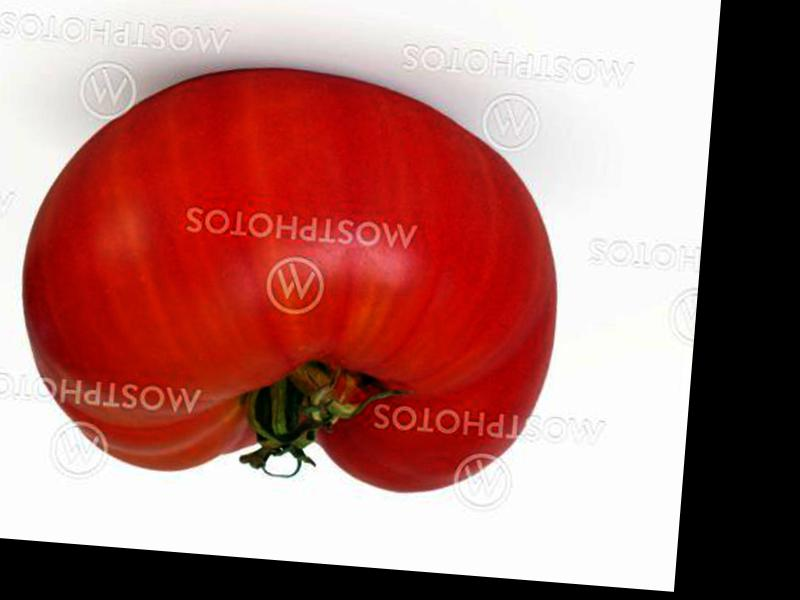Tomato: (8, 51, 571, 503)
